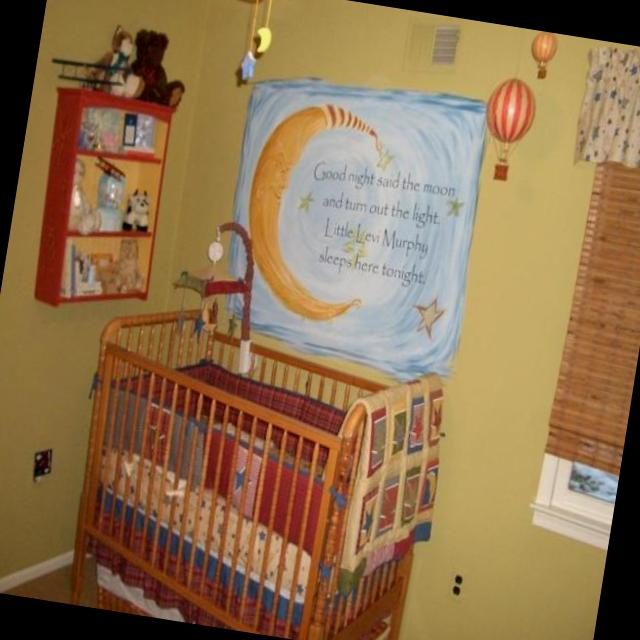bed: (57, 291, 459, 640)
curtains: (208, 62, 496, 388), (570, 38, 640, 177)
light: (475, 74, 540, 184), (526, 30, 558, 80)
shelves: (20, 78, 180, 320)
table-lamp: (158, 212, 276, 378), (189, 0, 316, 94)
window: (525, 154, 640, 550)
